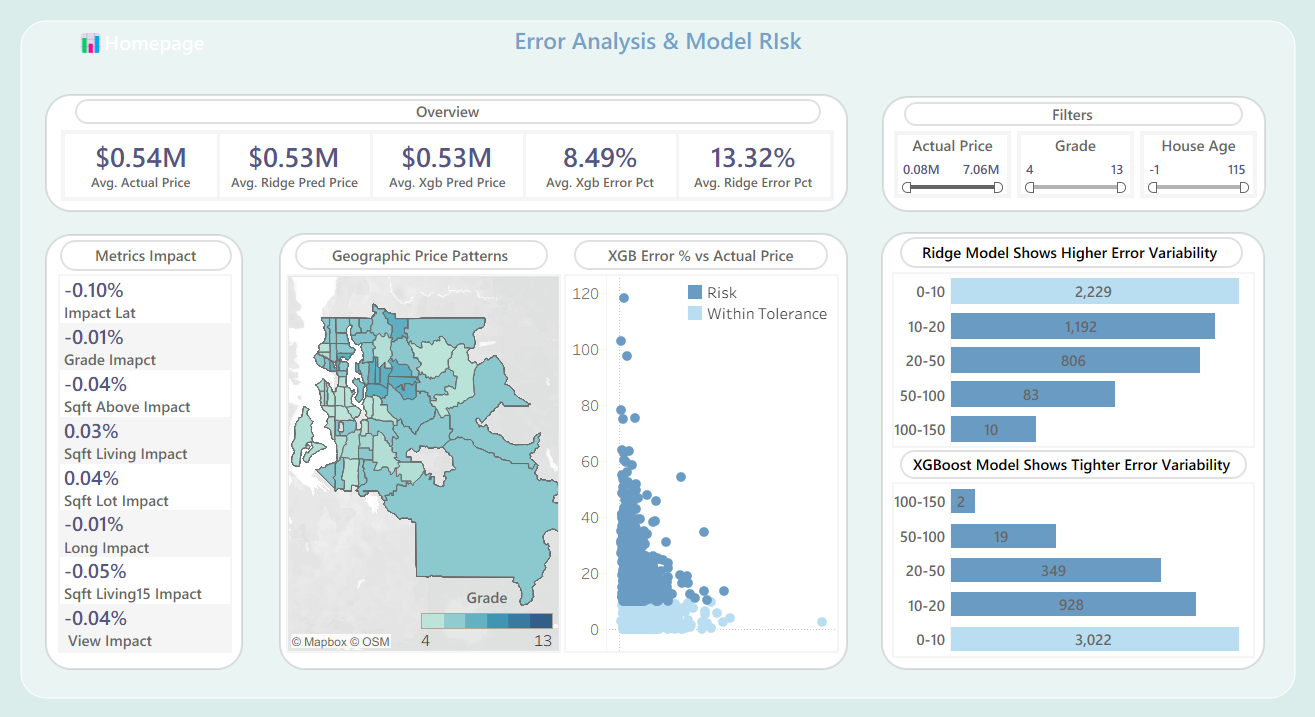

What the dashboard file says about the page in this screenshot:
{"tool":"tableau","page":{"name":"Error Analysis & Model Risk","canvas":[1000,1000],"units":"permille","ordinal":0},"visuals":[{"type":"worksheet","title":"Back 2","mark":"Automatic","box":[0,0,1000,1000]},{"type":"text","box":[47.4,27.8,902.3,47.2]},{"type":"dashboard-object","box":[54.1,33.3,111.3,38.9]},{"type":"filter","title":"Error % vs Price","param":"[federated.0pb6tqq0hun84y1cwjt1z028dbxy].[none:actual_price:qk]","box":[674.4,175,91,98.6]},{"type":"filter","title":"KPI Tiles","param":"[federated.0pb6tqq0hun84y1cwjt1z028dbxy].[none:grade:qk]","box":[766.9,175,91,98.6]},{"type":"filter","title":"KPI Tiles","param":"[federated.0pb6tqq0hun84y1cwjt1z028dbxy].[none:house_age:qk]","box":[859.4,175,91,98.6]},{"type":"worksheet","title":"KPI Tiles","mark":"Automatic","box":[49.6,176.4,581.2,98.6]},{"type":"blank","box":[166.9,176.4,2.3,97.2]},{"type":"blank","box":[281.9,176.4,2.3,97.2]},{"type":"blank","box":[397,176.4,2.3,97.2]},{"type":"blank","box":[512,176.4,2.3,97.2]},{"type":"worksheet","title":"Ridge Error % Distribution","mark":"Automatic","rows":["Calculation_0602830477926402"],"cols":["id"],"box":[674.4,373.6,272.9,244.4]},{"type":"worksheet","title":"Ridge Coefficient Effect","mark":"Automatic","box":[47.4,376.4,130.8,526.4]},{"type":"worksheet","title":"Price Map","mark":"Multipolygon","rows":["lat"],"cols":["long"],"box":[218.8,376.4,206.8,526.4]},{"type":"worksheet","title":"Error % vs Price","mark":"Automatic","rows":["xgb_error_pct"],"cols":["actual_price"],"box":[427.8,376.4,206.8,526.4]},{"type":"legend","title":"Error % vs Price","param":"[federated.0pb6tqq0hun84y1cwjt1z028dbxy].[none:Calculation_0458520059084800:nk]","box":[518.8,387.5,111.3,69.4]},{"type":"worksheet","title":"XGBoost Error % Distribution","mark":"Bar","rows":["Calculation_0602830478553091"],"cols":["id"],"box":[674.4,665.3,272.9,244.4]},{"type":"legend","title":"Price Map","param":"[federated.0pb6tqq0hun84y1cwjt1z028dbxy].[none:grade:qk]","box":[317.3,811.1,105.3,86.1]}]}

Visuals, with their boxes on the dashboard's canvas, which has no fixed pixel size, in thousandths of its width and height (x1, y1, x2, y2). These are canvas units, not pixel positions in the 1315x717 screenshot, which may show the page scaled, cropped or inside an application window:
"Back 2" worksheet: 0/0/1000/1000
text: 47/28/950/75
dashboard-object: 54/33/165/72
"Error % vs Price" filter: 674/175/765/274
"KPI Tiles" filter: 767/175/858/274
"KPI Tiles" filter: 859/175/950/274
"KPI Tiles" worksheet: 50/176/631/275
blank: 167/176/169/274
blank: 282/176/284/274
blank: 397/176/399/274
blank: 512/176/514/274
"Ridge Error % Distribution" worksheet: 674/374/947/618
"Ridge Coefficient Effect" worksheet: 47/376/178/903
"Price Map" worksheet (Multipolygon marks): 219/376/426/903
"Error % vs Price" worksheet: 428/376/635/903
"Error % vs Price" legend: 519/388/630/457
"XGBoost Error % Distribution" worksheet (Bar marks): 674/665/947/910
"Price Map" legend: 317/811/423/897
